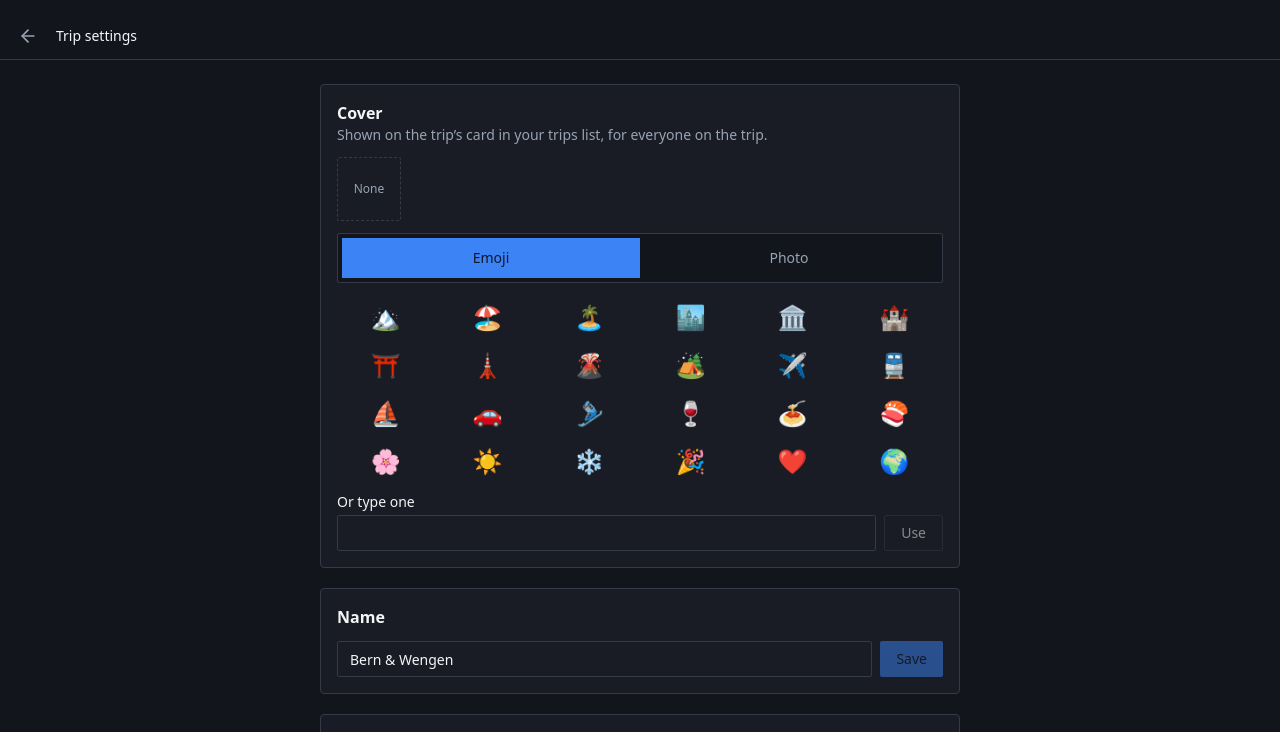
Scenario: TripSettingsPage (Run stage 29) › shows the server's refusal next to the name
In the field named "Trip name": (605, 659) x1=337 y1=641 x2=872 y2=677, type "!"
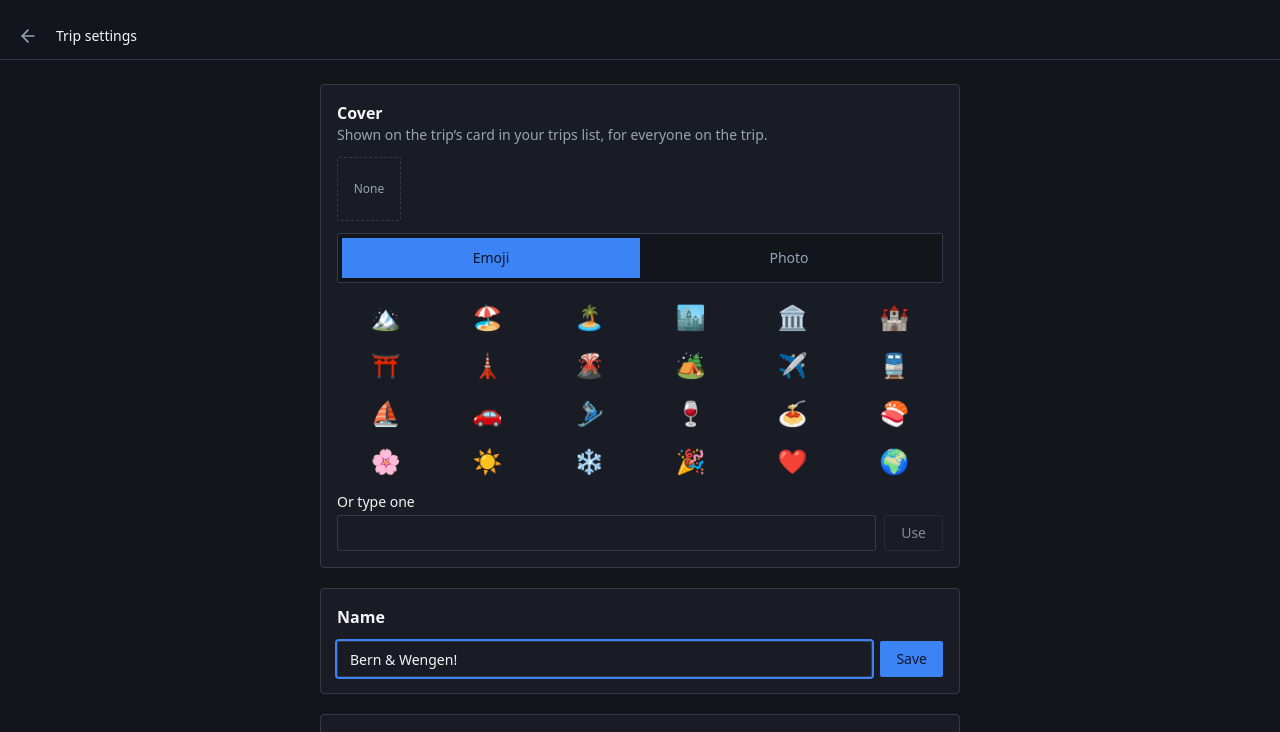
Click the button "Save": (912, 659) x1=880 y1=641 x2=943 y2=677
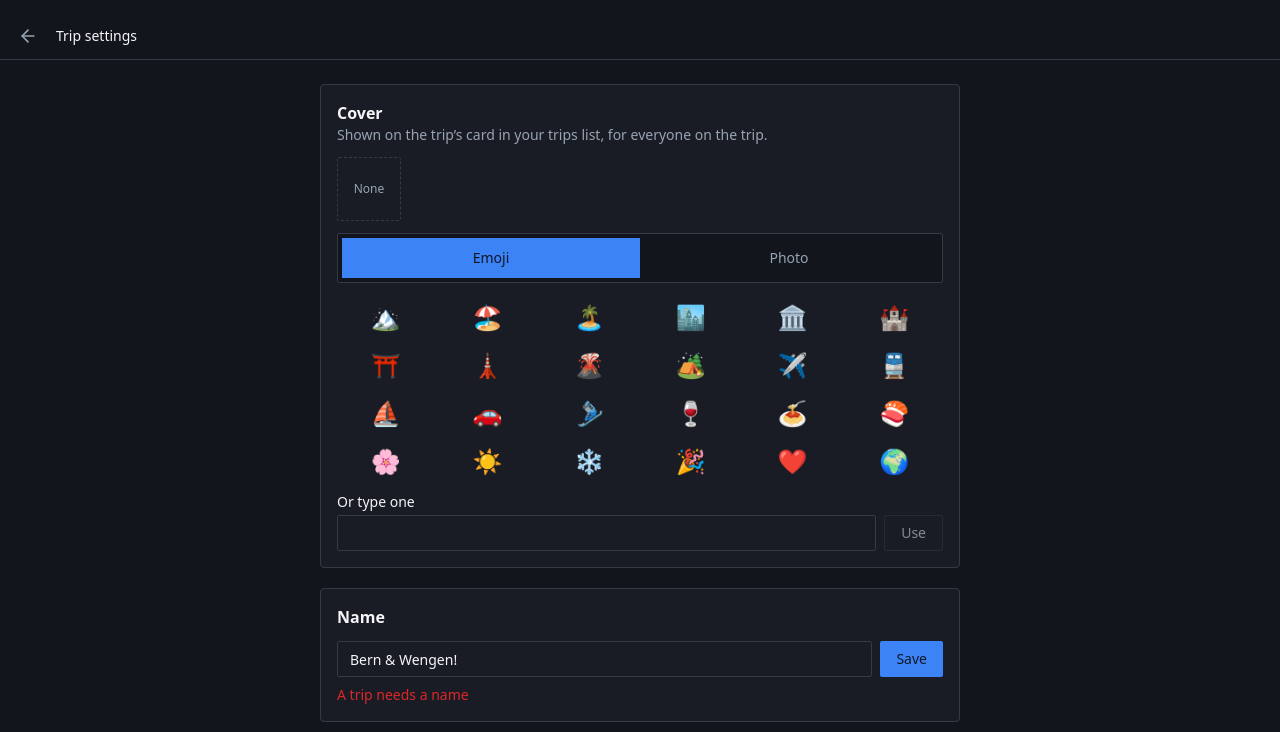
Now the message reads "A trip needs a name", box x1=337 y1=685 x2=469 y2=704
